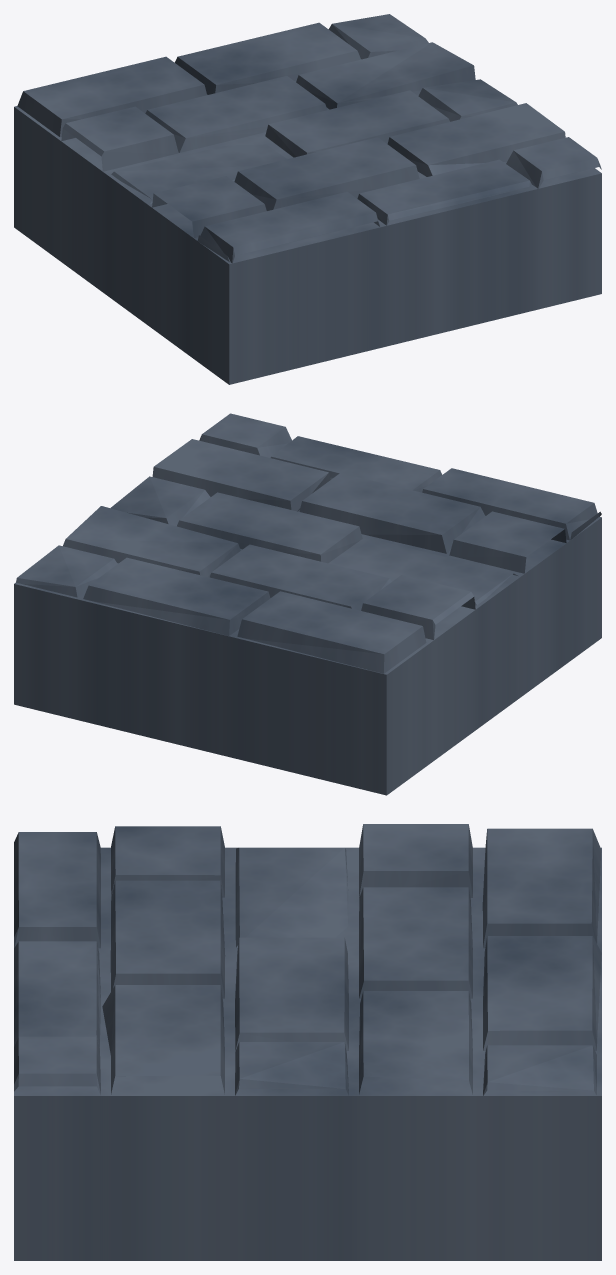
Rendered from BricksTile8.glb.
The picture shows the model from 3 angles, top to bottom: view 1: azimuth 30°, elevation 25°; view 2: azimuth 150°, elevation 25°; view 3: azimuth 270°, elevation 25°; orthographic projection. The views are drawn at different scales.
Visible parts, largest first — view 1: BricksTile8; view 2: BricksTile8; view 3: BricksTile8.
Boxes of the visible parts, <box> form: BricksTile8: <box>14,14,601,384</box>; BricksTile8: <box>14,413,601,795</box>; BricksTile8: <box>14,824,601,1260</box>.
Size of the model in its own units: 2 by 0.7139 by 2.
1 material, 1 textured.
